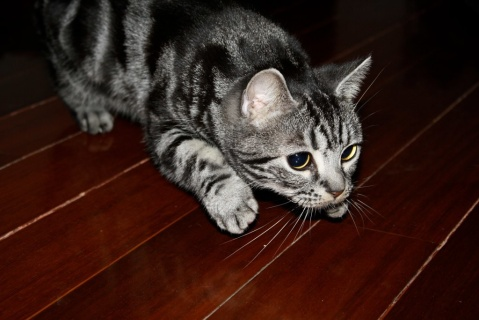Cat: (35, 0, 390, 274)
